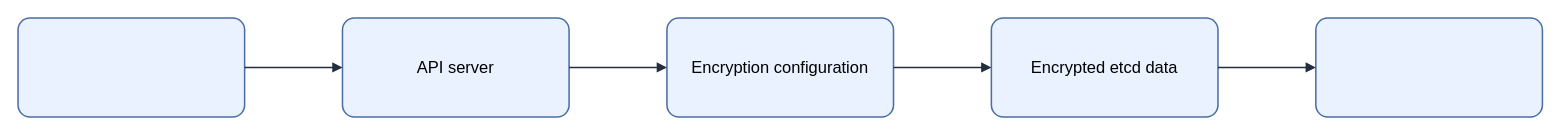
This 1561x136 diagram has some shape labels left out. The centre of each missing label's shape, as x and y in pixels:
Read and decrypt: pixel 1429 67
Secret manifest: pixel 131 67
